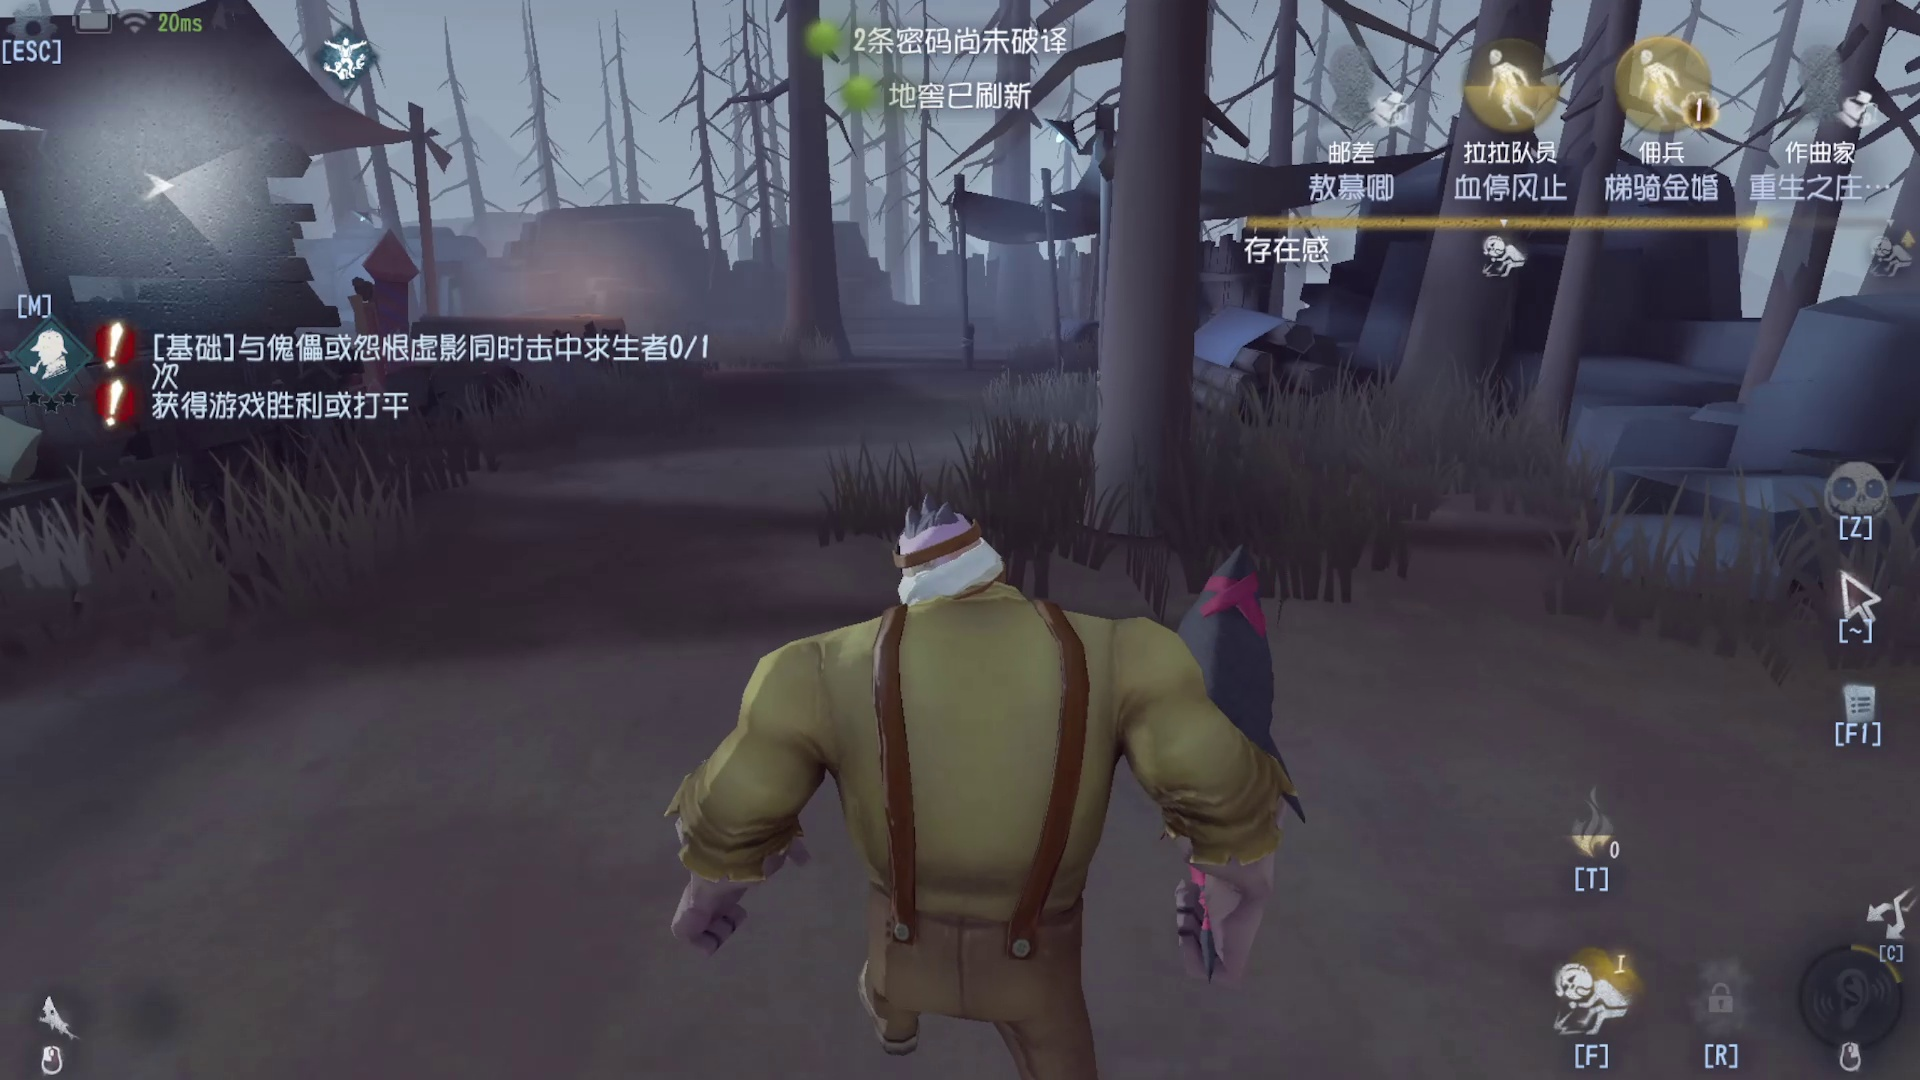技能: (1522, 752, 1648, 927)
